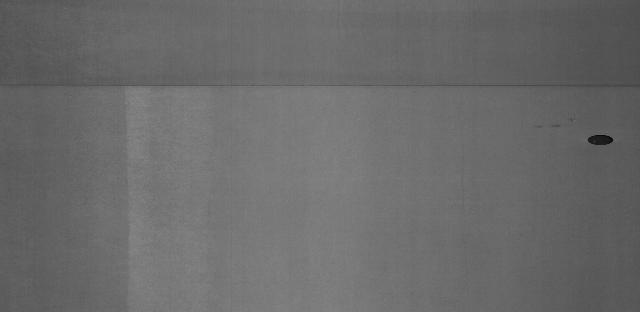punching_hole: (584, 130, 616, 151)
welding_line: (3, 77, 636, 95)
